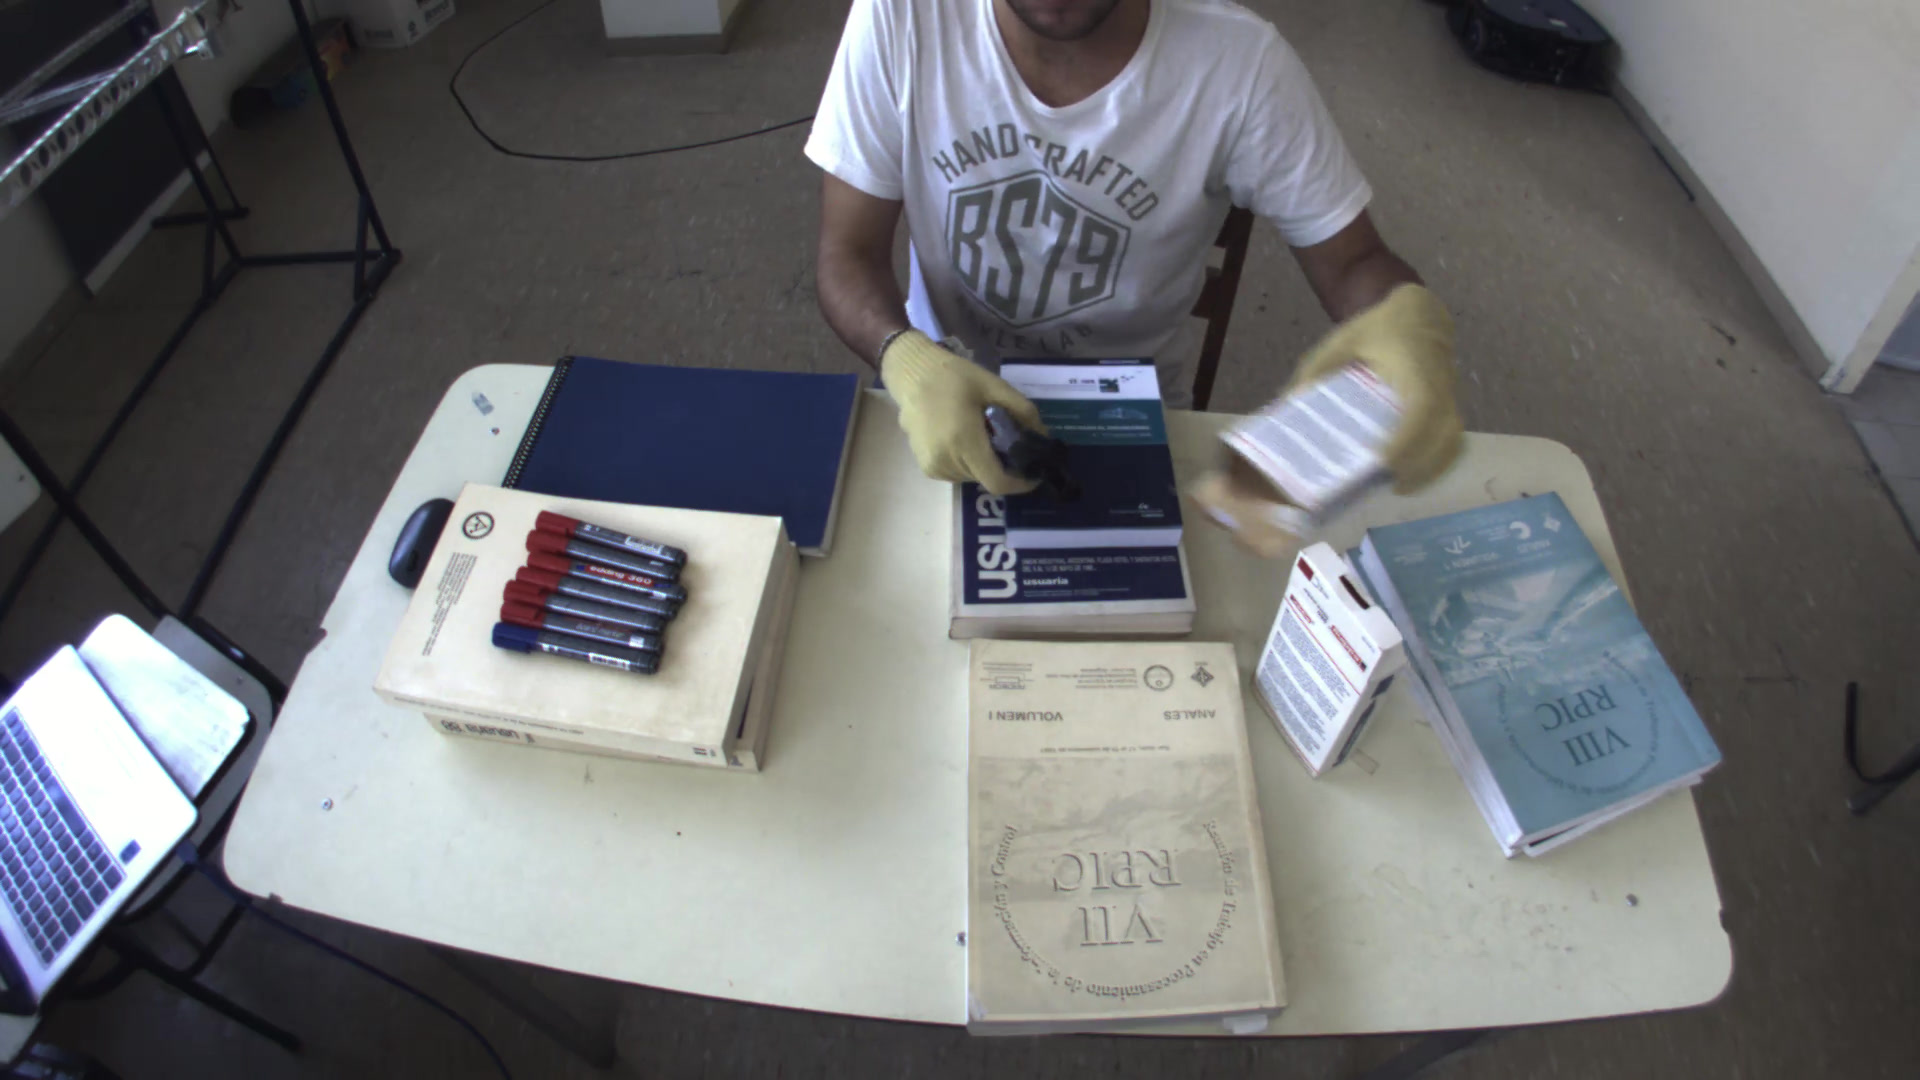hand: (1265, 278, 1489, 498), (866, 324, 1060, 502)
